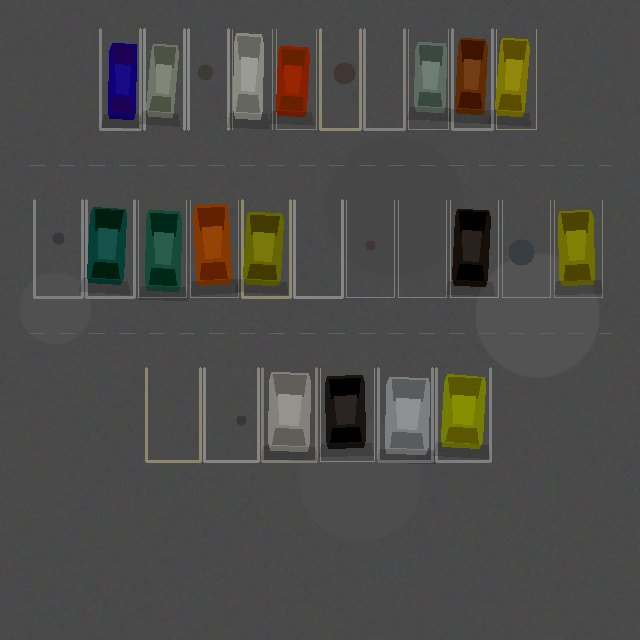space-empty: (146, 368, 200, 461), (204, 368, 258, 461), (34, 200, 82, 297), (294, 200, 342, 297), (346, 200, 394, 297), (398, 200, 446, 297), (502, 200, 550, 297), (188, 29, 228, 129), (320, 29, 360, 129), (364, 29, 404, 129)
space-occupied: (262, 368, 316, 461), (320, 368, 374, 461), (378, 368, 432, 461), (436, 368, 490, 461), (86, 200, 134, 297), (138, 200, 186, 297), (190, 200, 238, 297), (242, 200, 290, 297), (450, 200, 498, 297), (554, 200, 602, 297), (100, 29, 140, 129), (144, 29, 184, 129), (232, 29, 272, 129), (276, 29, 316, 129), (408, 29, 448, 129), (452, 29, 492, 129), (496, 29, 536, 129)
